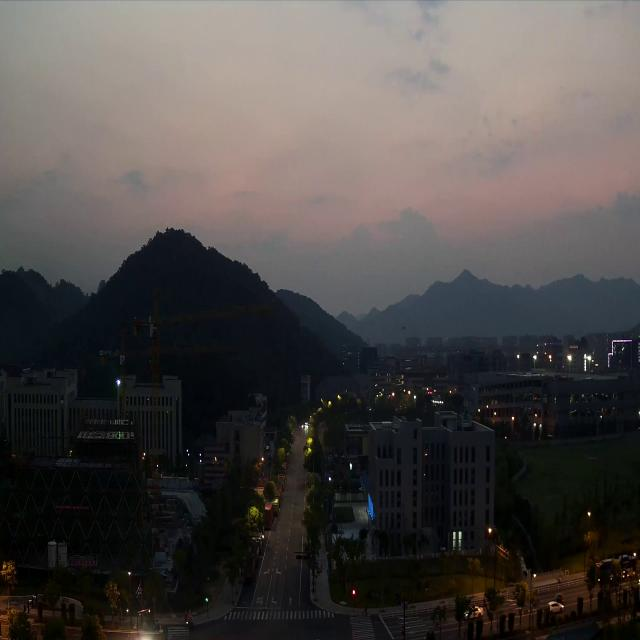drone: (402, 326, 405, 329)
